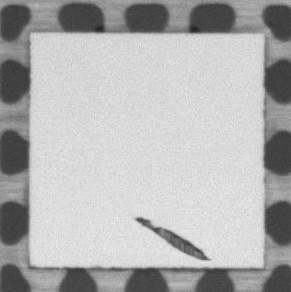DIE_INK: (131, 216, 209, 259)
